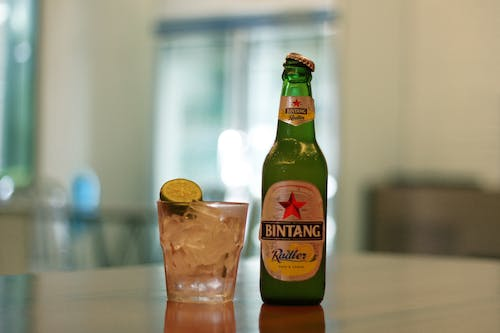alcohol: (259, 51, 328, 308), (155, 199, 250, 305)
